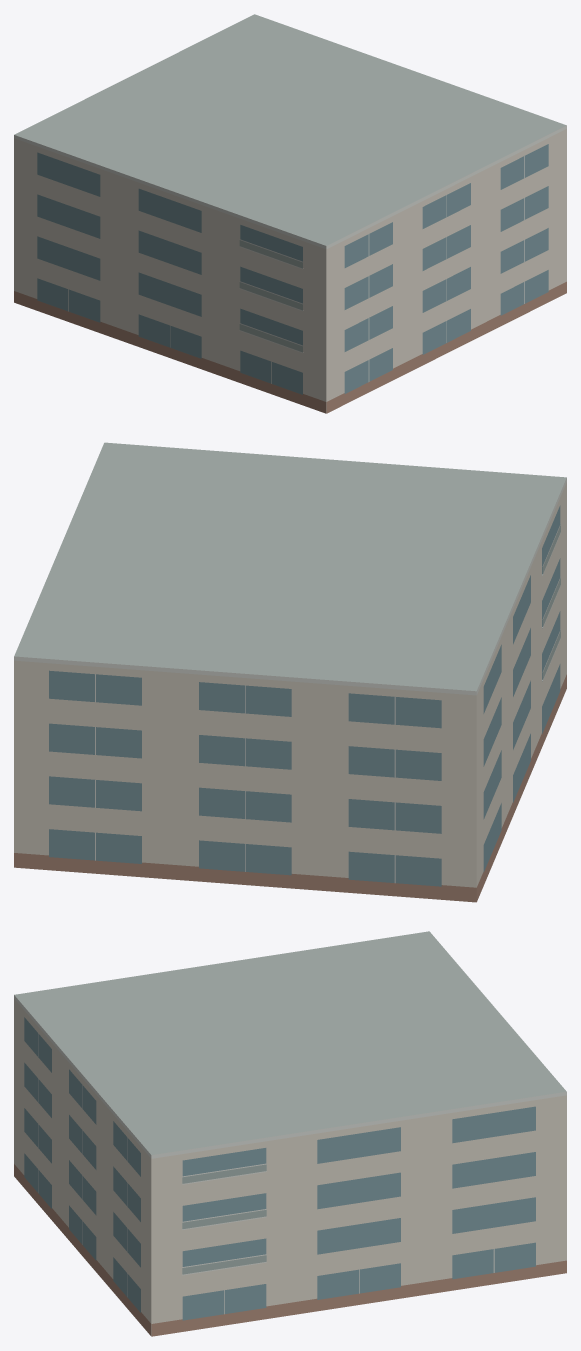
The model's file is residential-510c2a3b-0d3e-4f52-a837-cf21363ca067.glb.
3 renders of one model, top to bottom at view 1: azimuth 30°, elevation 25°; view 2: azimuth 150°, elevation 25°; view 3: azimuth 270°, elevation 25°, orthographic. The views are drawn at different scales.
Visible parts, largest first — view 1: residential-510c2a3b-0d3e-4f52-a837-cf21363ca067.tmp; view 2: residential-510c2a3b-0d3e-4f52-a837-cf21363ca067.tmp; view 3: residential-510c2a3b-0d3e-4f52-a837-cf21363ca067.tmp.
Boxes of the visible parts, <box> form: residential-510c2a3b-0d3e-4f52-a837-cf21363ca067.tmp: <box>14,14,566,413</box>; residential-510c2a3b-0d3e-4f52-a837-cf21363ca067.tmp: <box>14,442,566,902</box>; residential-510c2a3b-0d3e-4f52-a837-cf21363ca067.tmp: <box>14,931,566,1336</box>.
Bounding box in the file's own units: 32.3 × 12.2 × 33.7.
